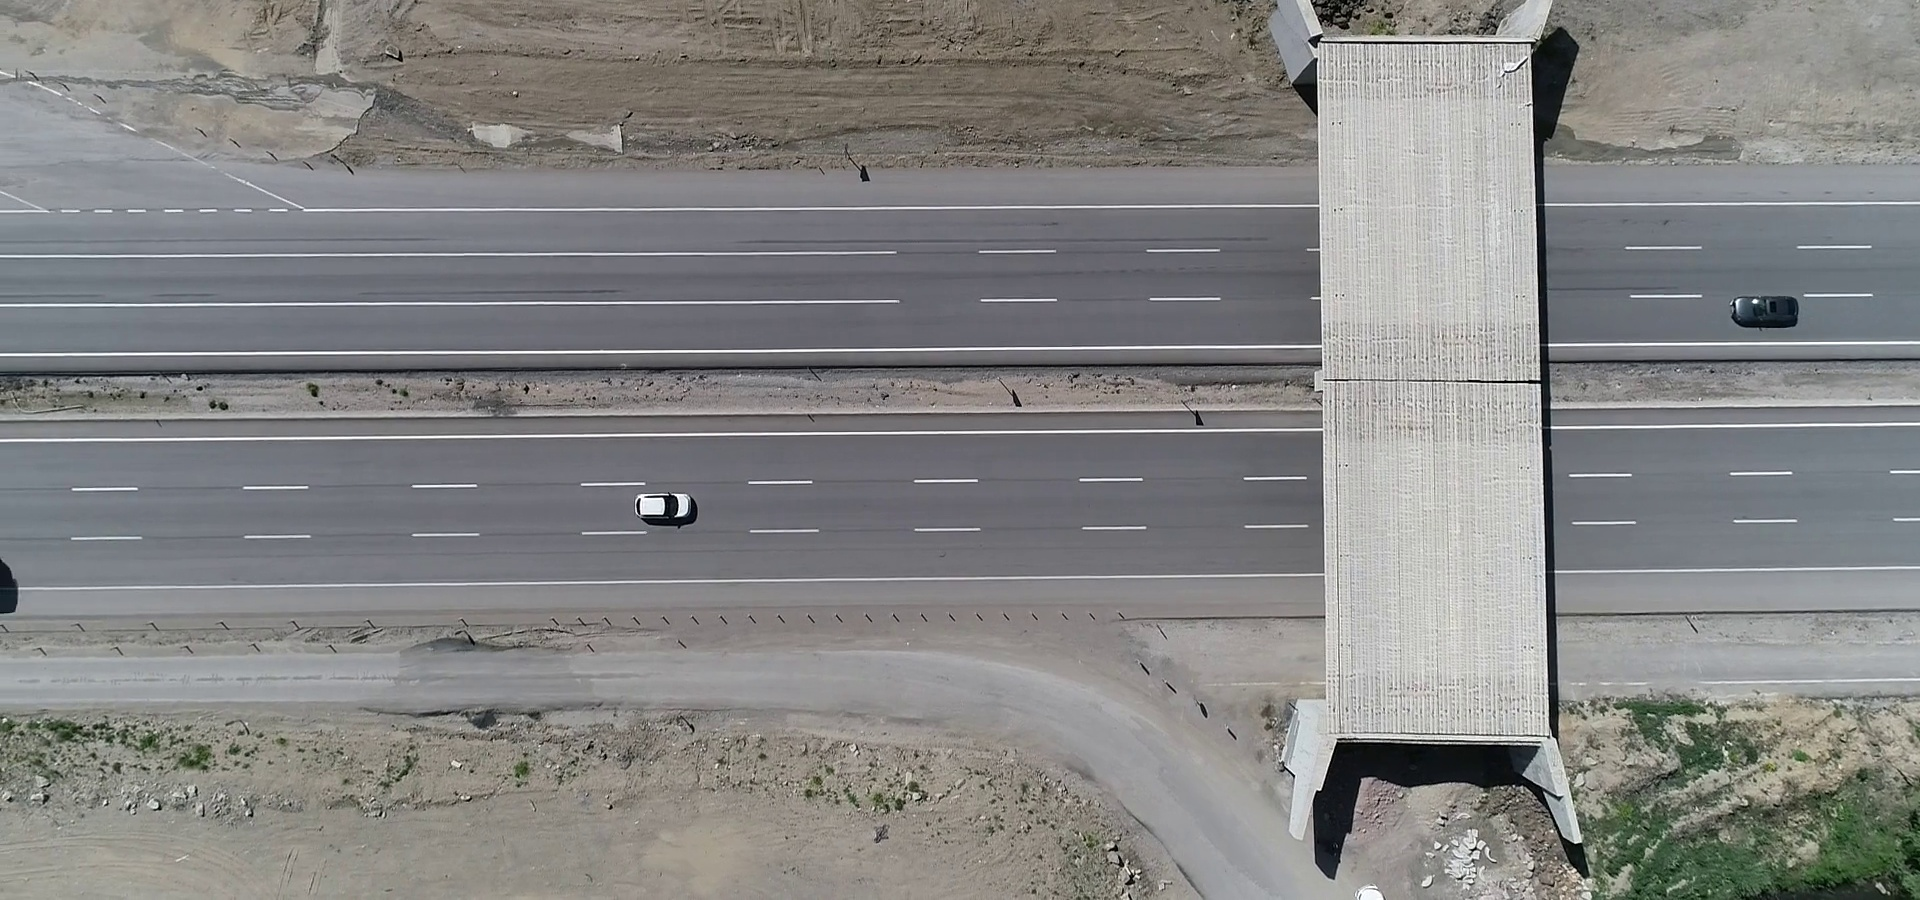araba: (1725, 290, 1820, 333), (632, 490, 698, 527)
